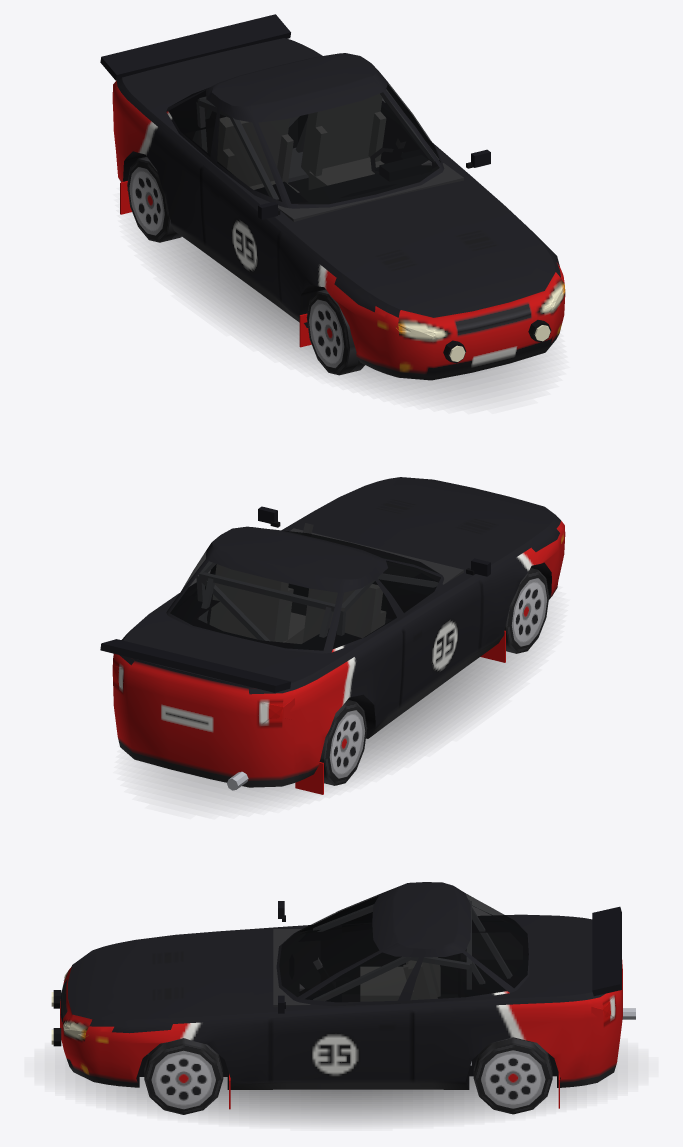
The model's file is fogareiro.glb.
The picture shows the model from 3 angles, top to bottom: view 1: azimuth 30°, elevation 25°; view 2: azimuth 150°, elevation 25°; view 3: azimuth 270°, elevation 25°; orthographic projection. The views are drawn at different scales.
Parts seen in each view (by area): view 1: Carroceria, Capo_malha, Interior, Porta_D_malha, Sombra, Tampa_malha, Roda_DD, Roda_TD, Porta_E_malha, Farol; view 2: Carroceria, Capo_malha, Interior, Sombra, Porta_D_malha, Tampa_malha, Roda_TD, Roda_DD, Lanterna; view 3: Carroceria, Porta_E_malha, Capo_malha, Interior, Sombra, Tampa_malha, Roda_TE, Roda_DE, Porta_D_malha.
Boxes of the visible parts, box(x1,y1,x2,y2) form: Carroceria: box(113, 46, 565, 380); Capo_malha: box(300, 188, 560, 317); Interior: box(186, 91, 463, 221); Porta_D_malha: box(200, 104, 288, 301); Sombra: box(145, 236, 539, 398); Tampa_malha: box(100, 14, 316, 97); Roda_DD: box(306, 289, 364, 375); Roda_TD: box(127, 156, 181, 242); Porta_E_malha: box(372, 70, 490, 169); Farol: box(395, 284, 565, 339); Carroceria: box(112, 479, 565, 794); Capo_malha: box(300, 477, 560, 565); Interior: box(181, 523, 463, 643); Sombra: box(143, 641, 537, 803); Porta_D_malha: box(373, 557, 490, 706); Tampa_malha: box(100, 625, 316, 694); Roda_TD: box(319, 700, 367, 785); Roda_DD: box(504, 568, 549, 653); Lanterna: box(112, 665, 295, 724); Carroceria: box(51, 882, 635, 1109); Porta_E_malha: box(270, 942, 412, 1082); Capo_malha: box(73, 931, 254, 1026); Interior: box(147, 900, 522, 1065); Sombra: box(65, 1057, 617, 1122); Tampa_malha: box(547, 906, 621, 999); Roda_TE: box(473, 1037, 552, 1114); Roda_DE: box(144, 1038, 223, 1114); Porta_D_malha: box(278, 886, 398, 930).
Bounding box in the file's own units: 2.36 × 1.32 × 4.97.
14 materials, 5 textured.
